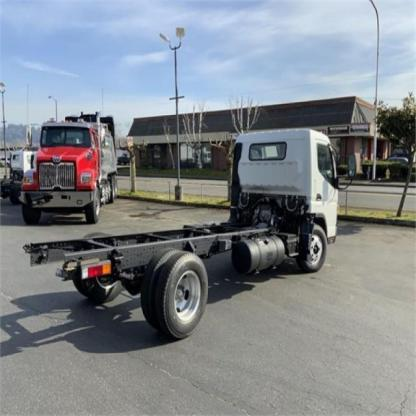truck: (24, 126, 341, 351), (20, 109, 121, 225)
